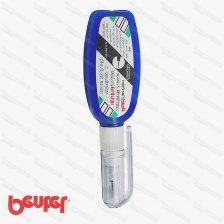correction_fluid: (81, 5, 142, 210)
